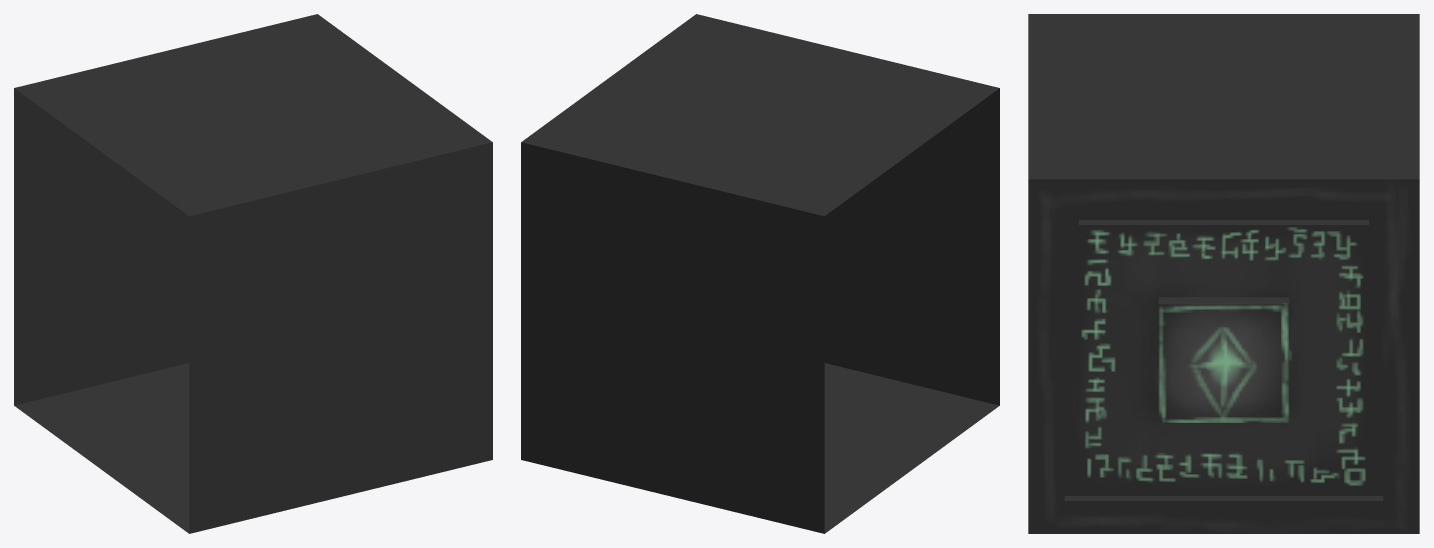
File: activatorCube.fbx
3 renders of one model, left to right at view 1: azimuth 30°, elevation 25°; view 2: azimuth 150°, elevation 25°; view 3: azimuth 270°, elevation 25°, orthographic. The views are drawn at different scales.
Visible parts, largest first — view 1: Activator; view 2: Activator; view 3: Activator.
Boxes of the visible parts, x1,y1,x2,y2 form: Activator: (14,14,492,533); Activator: (521,14,999,533); Activator: (1028,14,1419,533).
Bounding box in the file's own units: 1.04 × 1 × 1.
